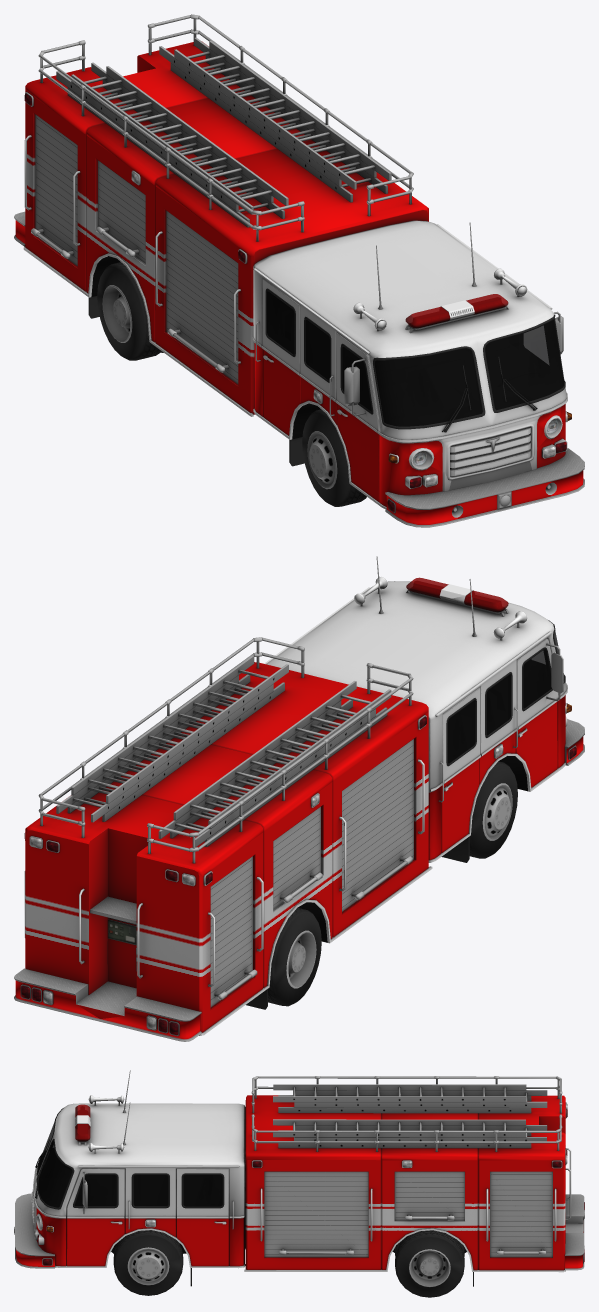
File: veicolo_autopompa.glb
The picture shows the model from 3 angles, top to bottom: view 1: azimuth 30°, elevation 25°; view 2: azimuth 150°, elevation 25°; view 3: azimuth 270°, elevation 25°; orthographic projection. The views are drawn at different scales.
Visible parts, largest first — view 1: sb_modello; view 2: sb_modello; view 3: sb_modello.
Boxes of the visible parts, x1,y1,x2,y2 form: sb_modello: [14, 14, 584, 527]; sb_modello: [14, 556, 584, 1041]; sb_modello: [14, 1070, 584, 1297].
Bounding box in the file's own units: 2.59 × 2.93 × 8.36.
4 materials, 4 textured.
